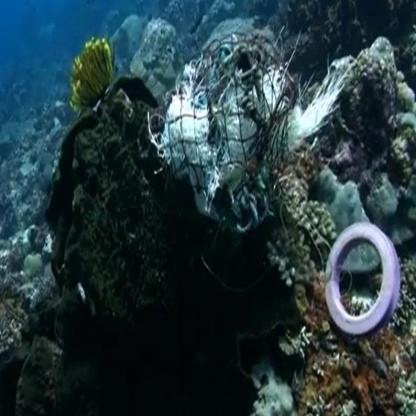net: (186, 44, 358, 246)
tire: (332, 224, 406, 339)
